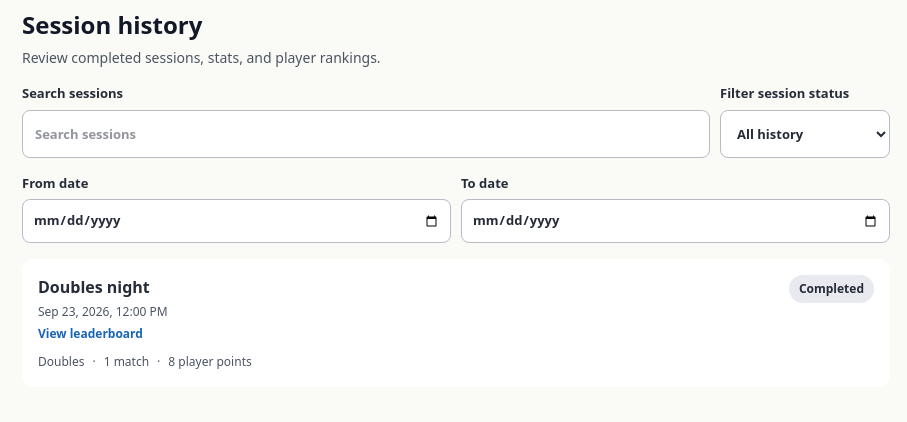
Test case: a filtered empty result offers a reset and returns to the unfiltered first page
Expected: the text "Doubles night" is shown, [38,275,168,299]
Type "missing" into the field at (366, 134), box [22,110,710,158]
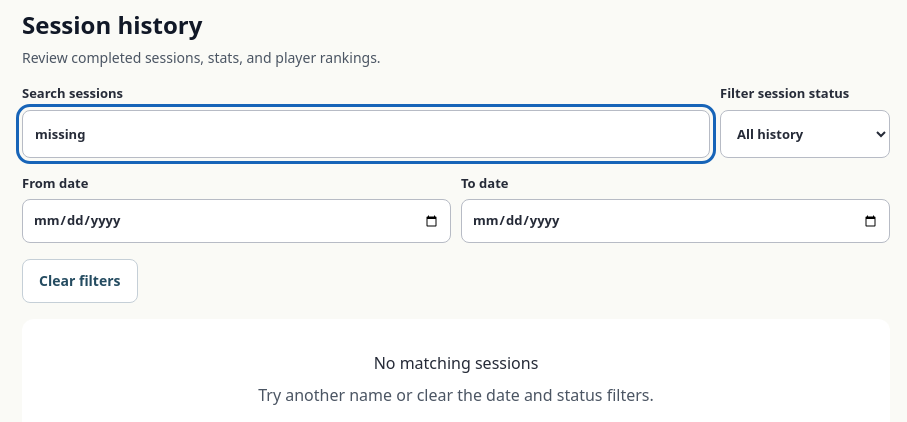
Now the heading "No matching sessions" is shown, box [374,352,538,374]
Click the button "Clear filters" at (80, 281), box [22,259,138,303]
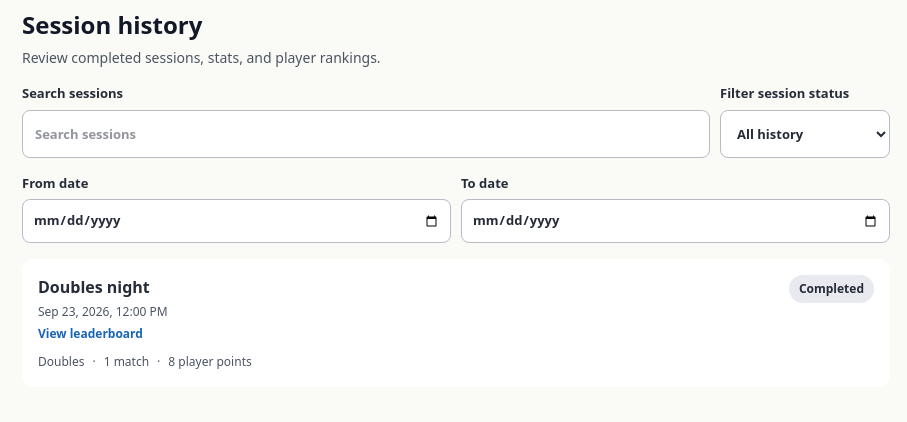
Now the text "Doubles night" is shown, box [38,275,168,299]
Now the field is empty, box [22,110,710,158]
